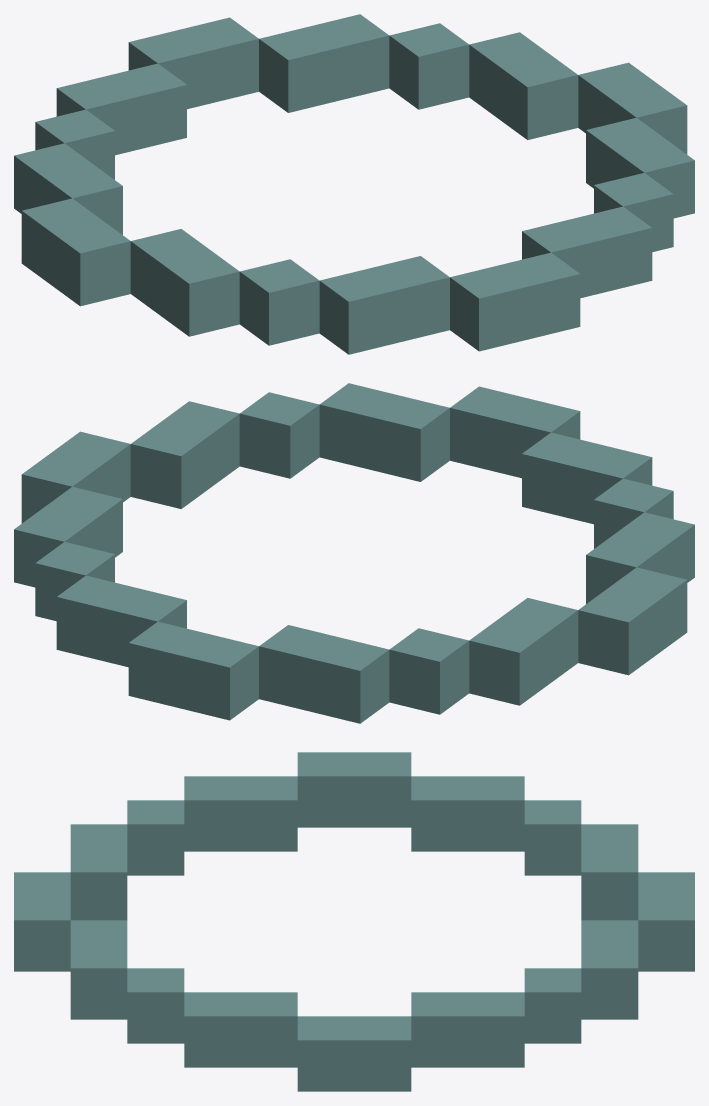
File: Crystal_Ring_1.dae
3 renders of one model, top to bottom at view 1: azimuth 30°, elevation 25°; view 2: azimuth 150°, elevation 25°; view 3: azimuth 270°, elevation 25°, orthographic. The views are drawn at different scales.
Visible parts, largest first — view 1: Crystal_Ring_1; view 2: Crystal_Ring_1; view 3: Crystal_Ring_1.
Boxes of the visible parts, <box> form: Crystal_Ring_1: <box>14,14,694,354</box>; Crystal_Ring_1: <box>14,383,694,723</box>; Crystal_Ring_1: <box>14,752,694,1091</box>.
Bounding box in the file's own units: 0.3 × 0.3 × 0.025.
